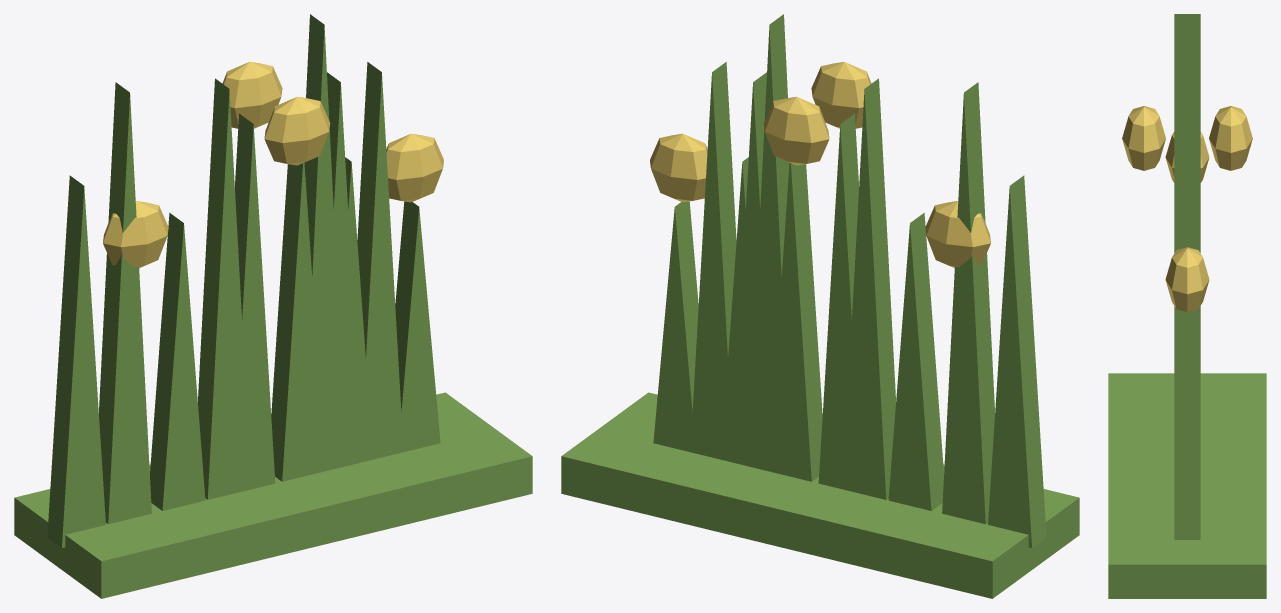
Rendered from GG-VEG-GRASS-COASTAL-TUFT-001_LOD_CLOSE.glb.
3 renders of one model, left to right at view 1: azimuth 30°, elevation 25°; view 2: azimuth 150°, elevation 25°; view 3: azimuth 270°, elevation 25°, orthographic. The views are drawn at different scales.
Visible parts, largest first — view 1: GG_VEG_MOD_BASE_001, GG_VEG_MODULE_7, GG_VEG_MODULE_10, GG_VEG_MODULE_8, GG_VEG_MODULE_2, GG_VEG_MODULE_11, GG_VEG_MODULE_6, GG_VEG_MODULE_5, GG_VEG_MODULE_13, GG_VEG_MODULE_4, GG_VEG_MODULE_12, GG_VEG_ACCENT_4 (+6 smaller); view 2: GG_VEG_MOD_BASE_001, GG_VEG_MODULE_7, GG_VEG_MODULE_8, GG_VEG_MODULE_2, GG_VEG_MODULE_11, GG_VEG_MODULE_6, GG_VEG_MODULE_5, GG_VEG_MODULE_10, GG_VEG_MODULE_4, GG_VEG_MODULE_12, GG_VEG_MODULE_13, GG_VEG_MODULE_1 (+6 smaller); view 3: GG_VEG_MOD_BASE_001, GG_VEG_MODULE_12, GG_VEG_MODULE_2, GG_VEG_ACCENT_1, GG_VEG_ACCENT_2, GG_VEG_ACCENT_4, GG_VEG_MODULE_4, GG_VEG_MODULE_7, GG_VEG_ACCENT_3, GG_VEG_MODULE_13.
Boxes of the visible parts, <box> form: GG_VEG_MOD_BASE_001: <box>14,392,532,598</box>; GG_VEG_MODULE_7: <box>99,82,151,524</box>; GG_VEG_MODULE_10: <box>198,78,250,499</box>; GG_VEG_MODULE_8: <box>47,175,105,547</box>; GG_VEG_MODULE_2: <box>357,62,403,462</box>; GG_VEG_MODULE_11: <box>271,163,325,481</box>; GG_VEG_MODULE_6: <box>150,212,205,510</box>; GG_VEG_MODULE_5: <box>232,113,275,493</box>; GG_VEG_MODULE_13: <box>319,72,362,472</box>; GG_VEG_MODULE_4: <box>303,14,345,476</box>; GG_VEG_MODULE_12: <box>395,201,440,451</box>; GG_VEG_ACCENT_4: <box>264,96,330,165</box>; GG_VEG_MOD_BASE_001: <box>561,392,1079,598</box>; GG_VEG_MODULE_7: <box>942,82,994,524</box>; GG_VEG_MODULE_8: <box>988,175,1046,547</box>; GG_VEG_MODULE_2: <box>690,62,736,462</box>; GG_VEG_MODULE_11: <box>769,163,822,481</box>; GG_VEG_MODULE_6: <box>888,212,943,510</box>; GG_VEG_MODULE_5: <box>818,113,861,493</box>; GG_VEG_MODULE_10: <box>852,78,895,499</box>; GG_VEG_MODULE_4: <box>756,14,791,476</box>; GG_VEG_MODULE_12: <box>653,201,698,451</box>; GG_VEG_MODULE_13: <box>732,72,774,472</box>; GG_VEG_MODULE_1: <box>720,257,762,469</box>; GG_VEG_MOD_BASE_001: <box>1108,373,1266,598</box>; GG_VEG_MODULE_12: <box>1174,310,1200,539</box>; GG_VEG_MODULE_2: <box>1174,163,1200,310</box>; GG_VEG_ACCENT_1: <box>1165,247,1209,311</box>; GG_VEG_ACCENT_2: <box>1209,106,1252,170</box>; GG_VEG_ACCENT_4: <box>1122,106,1165,170</box>; GG_VEG_MODULE_4: <box>1174,81,1200,144</box>; GG_VEG_MODULE_7: <box>1174,14,1200,76</box>; GG_VEG_ACCENT_3: <box>1165,132,1209,182</box>; GG_VEG_MODULE_13: <box>1174,145,1200,163</box>.
Size of the model in its own units: 0.7256 by 0.7732 by 0.252.
